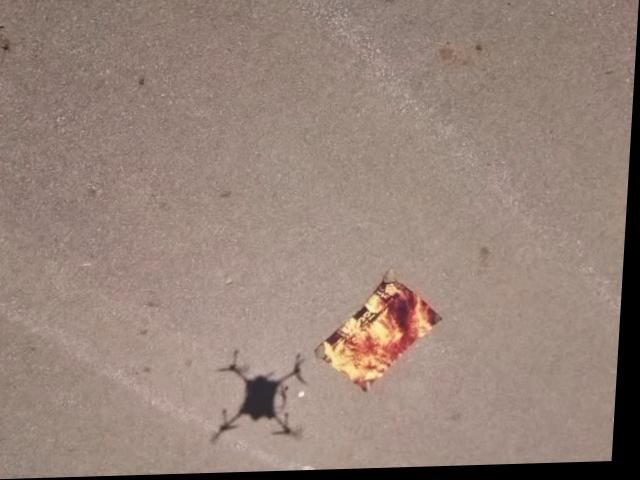fire-poster: (315, 269, 450, 398)
